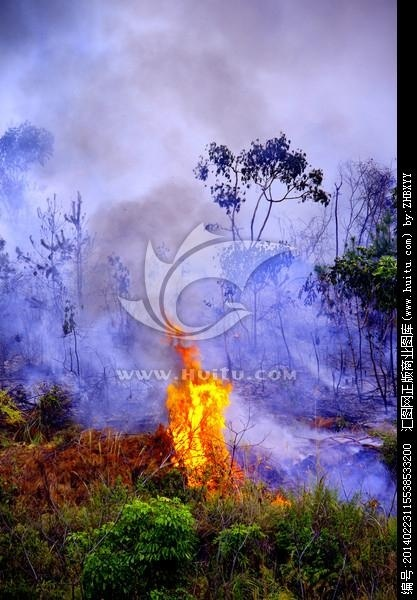fire: (162, 331, 240, 499)
